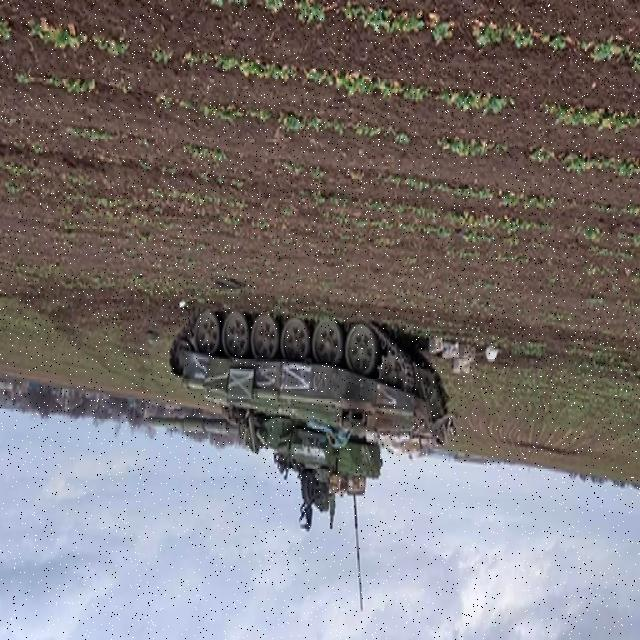TANK: (125, 309, 451, 527)
